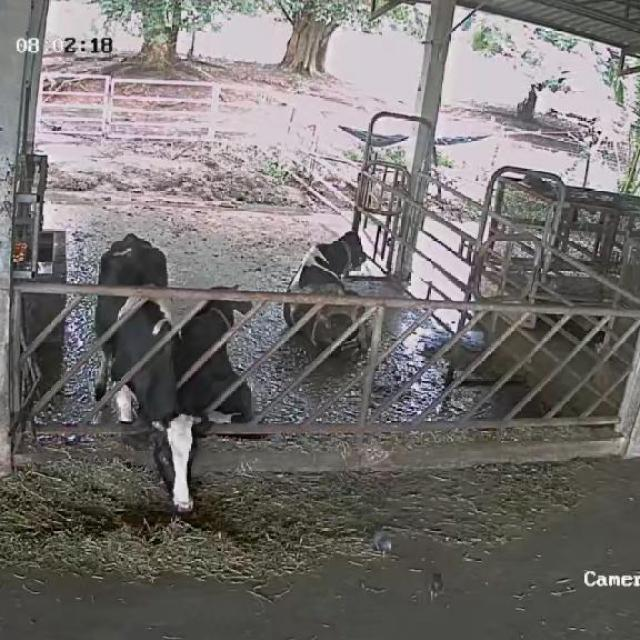feeding: (94, 234, 199, 516)
lying down: (175, 283, 262, 438), (284, 226, 374, 358)
